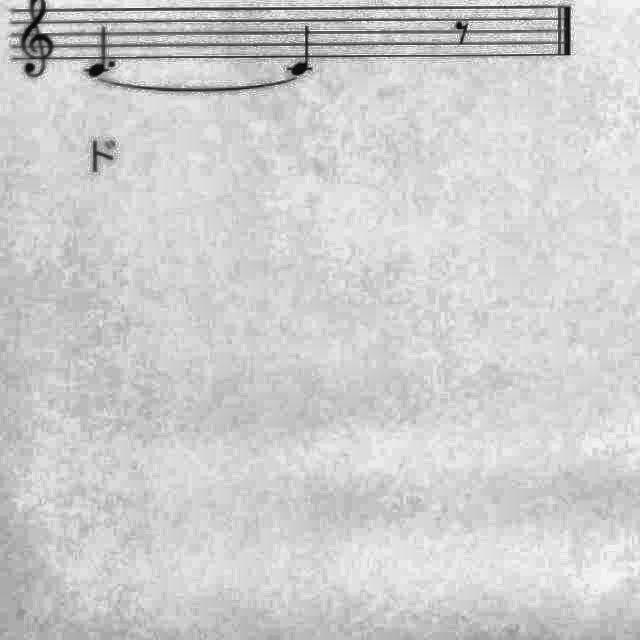Eighth-rest: (449, 11, 476, 49)
Quarter-dot: (79, 22, 123, 82)
Quarter-note: (284, 25, 324, 79)
